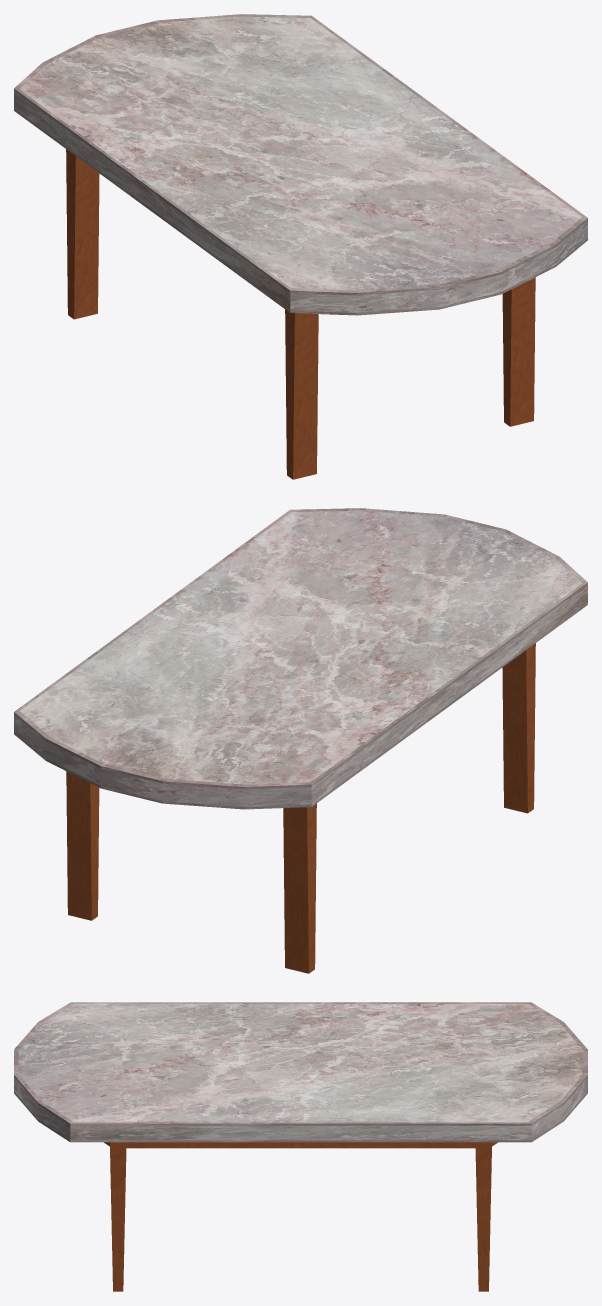
The model's file is Table_Dining.fbx.
3 renders of one model, top to bottom at view 1: azimuth 30°, elevation 25°; view 2: azimuth 150°, elevation 25°; view 3: azimuth 270°, elevation 25°, orthographic. The views are drawn at different scales.
Parts seen in each view (by area): view 1: Dining_Table; view 2: Dining_Table; view 3: Dining_Table.
Boxes of the visible parts, x1,y1,x2,y2 form: Dining_Table: (14, 14, 587, 479); Dining_Table: (14, 508, 587, 973); Dining_Table: (14, 1002, 587, 1291).
Bounding box in the file's own units: 170 × 117 × 339.
